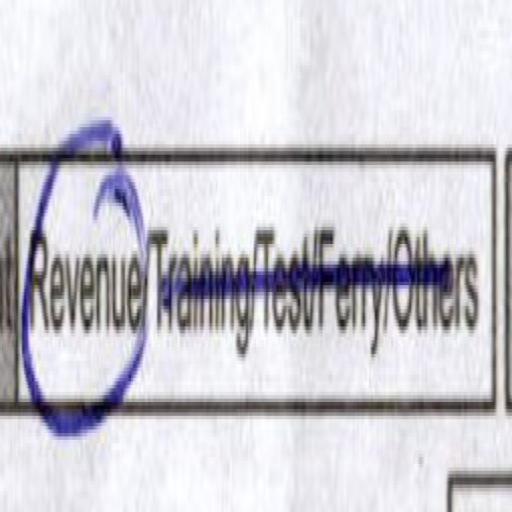check: (23, 90, 143, 452)
